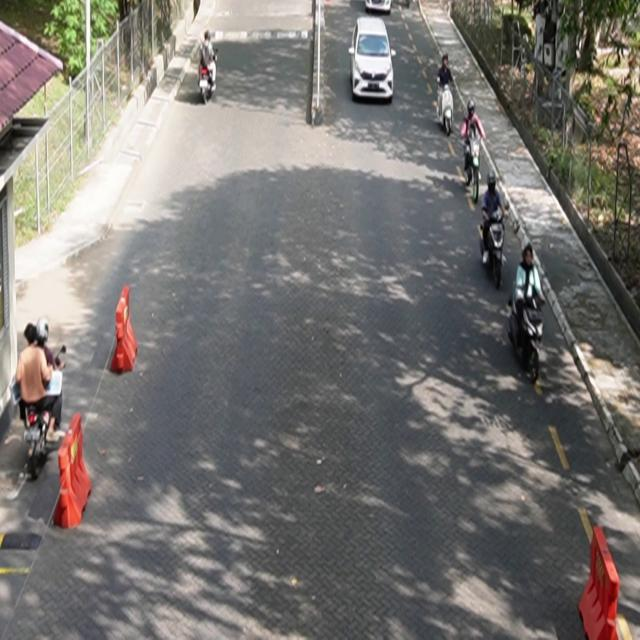car: (349, 15, 396, 104)
